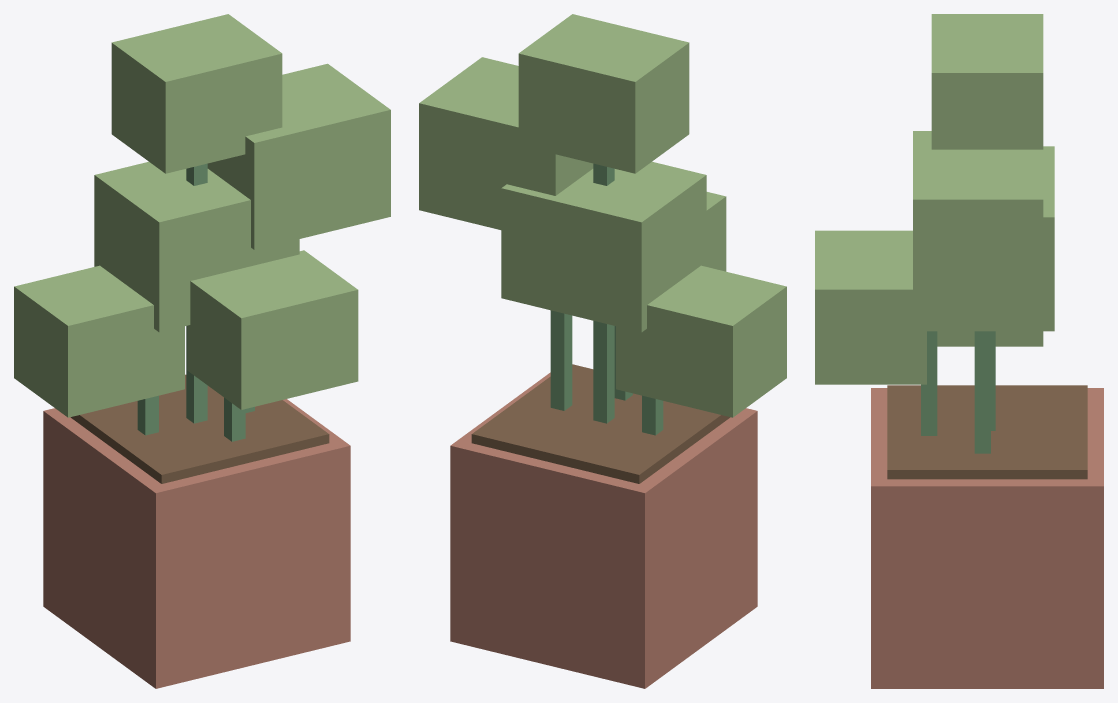
Rendered from plant.glb.
3 renders of one model, left to right at view 1: azimuth 30°, elevation 25°; view 2: azimuth 150°, elevation 25°; view 3: azimuth 270°, elevation 25°, orthographic. The views are drawn at different scales.
Visible parts, largest first — view 1: Leaves, Pot, Soil, Stem; view 2: Leaves, Pot, Soil, Stem; view 3: Leaves, Pot, Soil, Stem.
Boxes of the visible parts, box(x1,y1,x2,y2) form: Leaves: box(14, 14, 390, 417); Pot: box(43, 399, 350, 688); Soil: box(70, 374, 329, 483); Stem: box(137, 163, 254, 441); Leaves: box(419, 14, 786, 417); Pot: box(450, 372, 757, 688); Soil: box(471, 364, 730, 483); Stem: box(550, 163, 663, 435); Leaves: box(815, 14, 1054, 384); Pot: box(871, 388, 1103, 688); Soil: box(887, 385, 1087, 479); Stem: box(921, 331, 995, 453).
Bounding box in the file's own units: 0.805 × 1.41 × 0.62.
